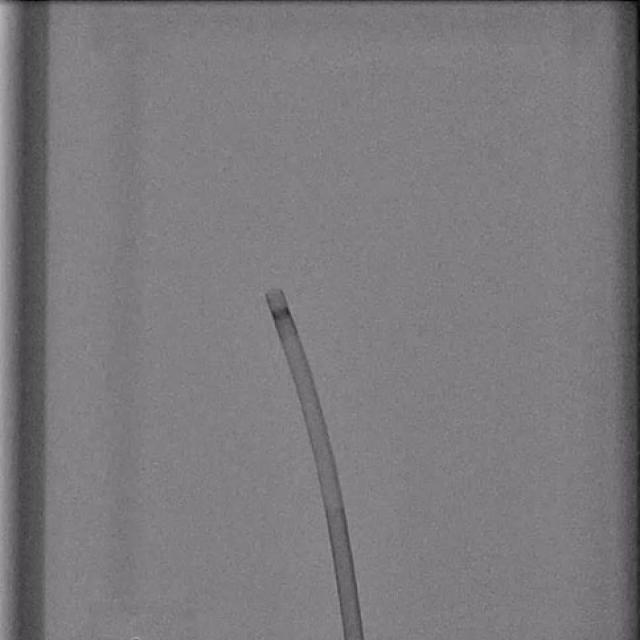bend: (322, 496, 345, 511)
entry: (343, 634, 365, 640)
marker: (270, 306, 292, 320)
tip: (264, 289, 283, 295)
